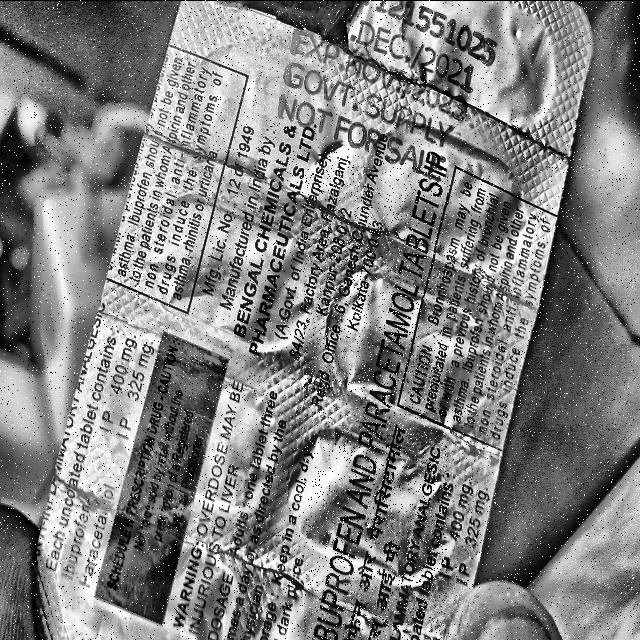IBUPROFEN AND PARACETAMOL TABLETS: (305, 166, 448, 640)
